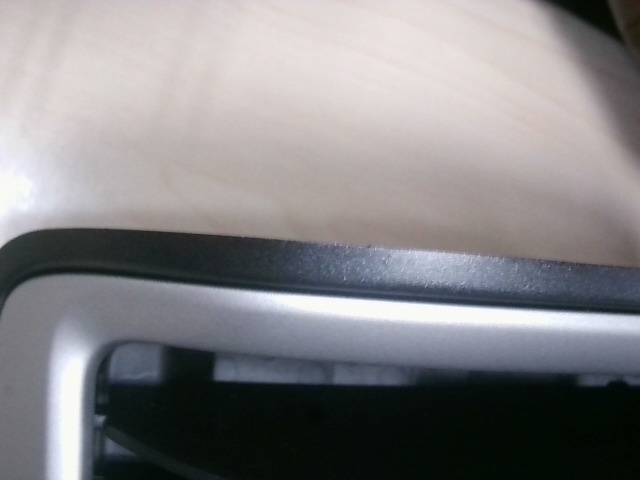NG: (359, 241, 398, 274)
